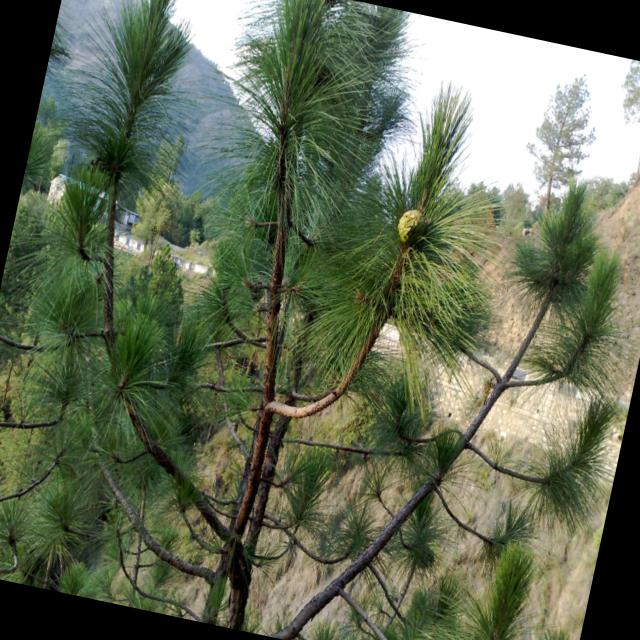Pine: (0, 150, 511, 640), (277, 154, 640, 640), (198, 52, 545, 387)
